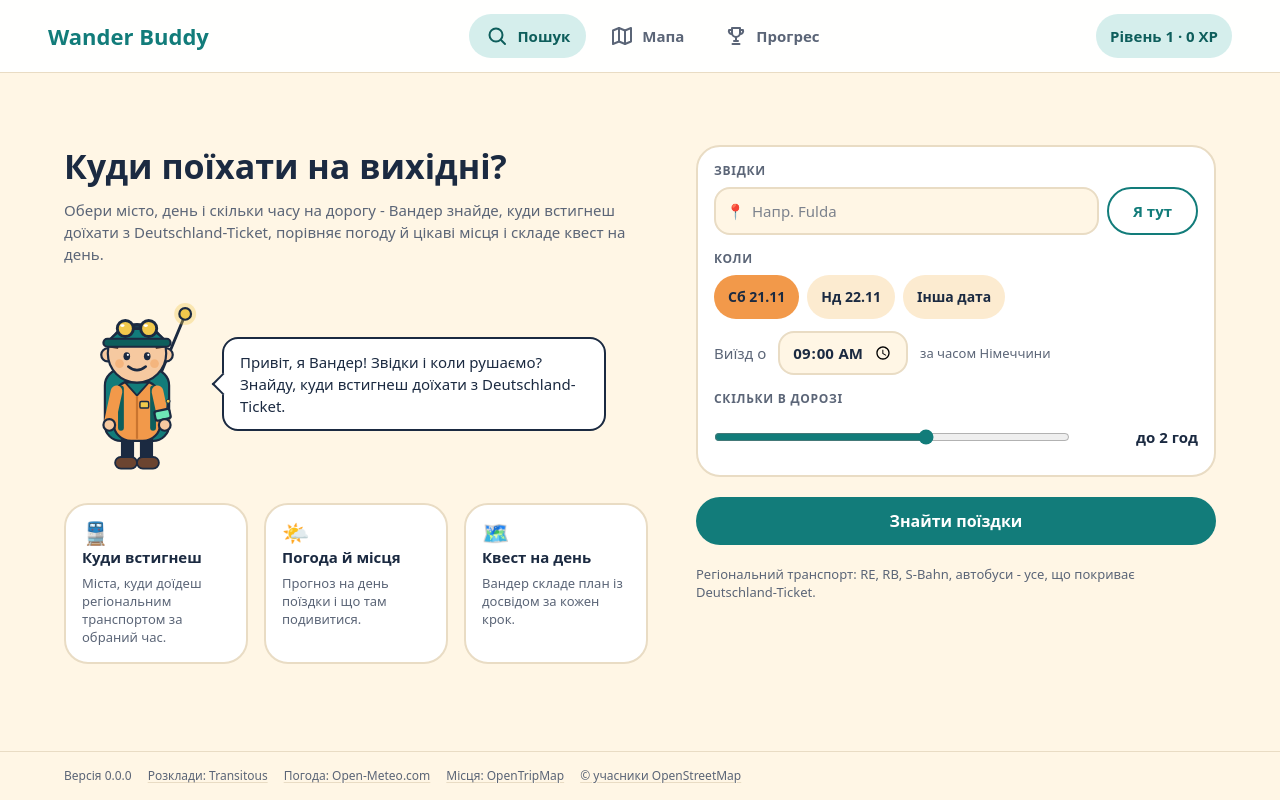
Scenario: search screen › makes Вандер sleepy for a departure before seven
Replace the text in the time field labelled "Виїзд о" with "06:15": [843, 353] box [778,331,908,375]
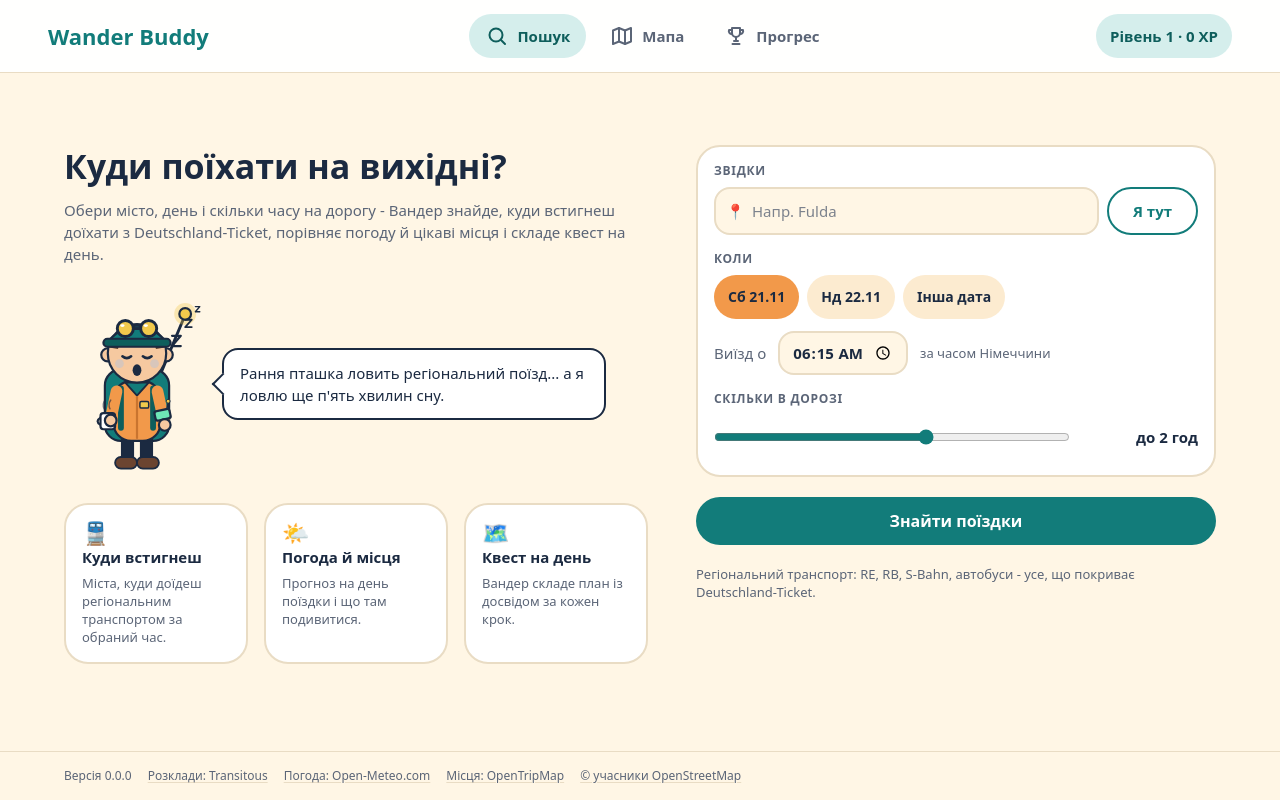
expect the picture named "Вандер позіхає з кавою" is shown: met, box [64,289,210,479]
